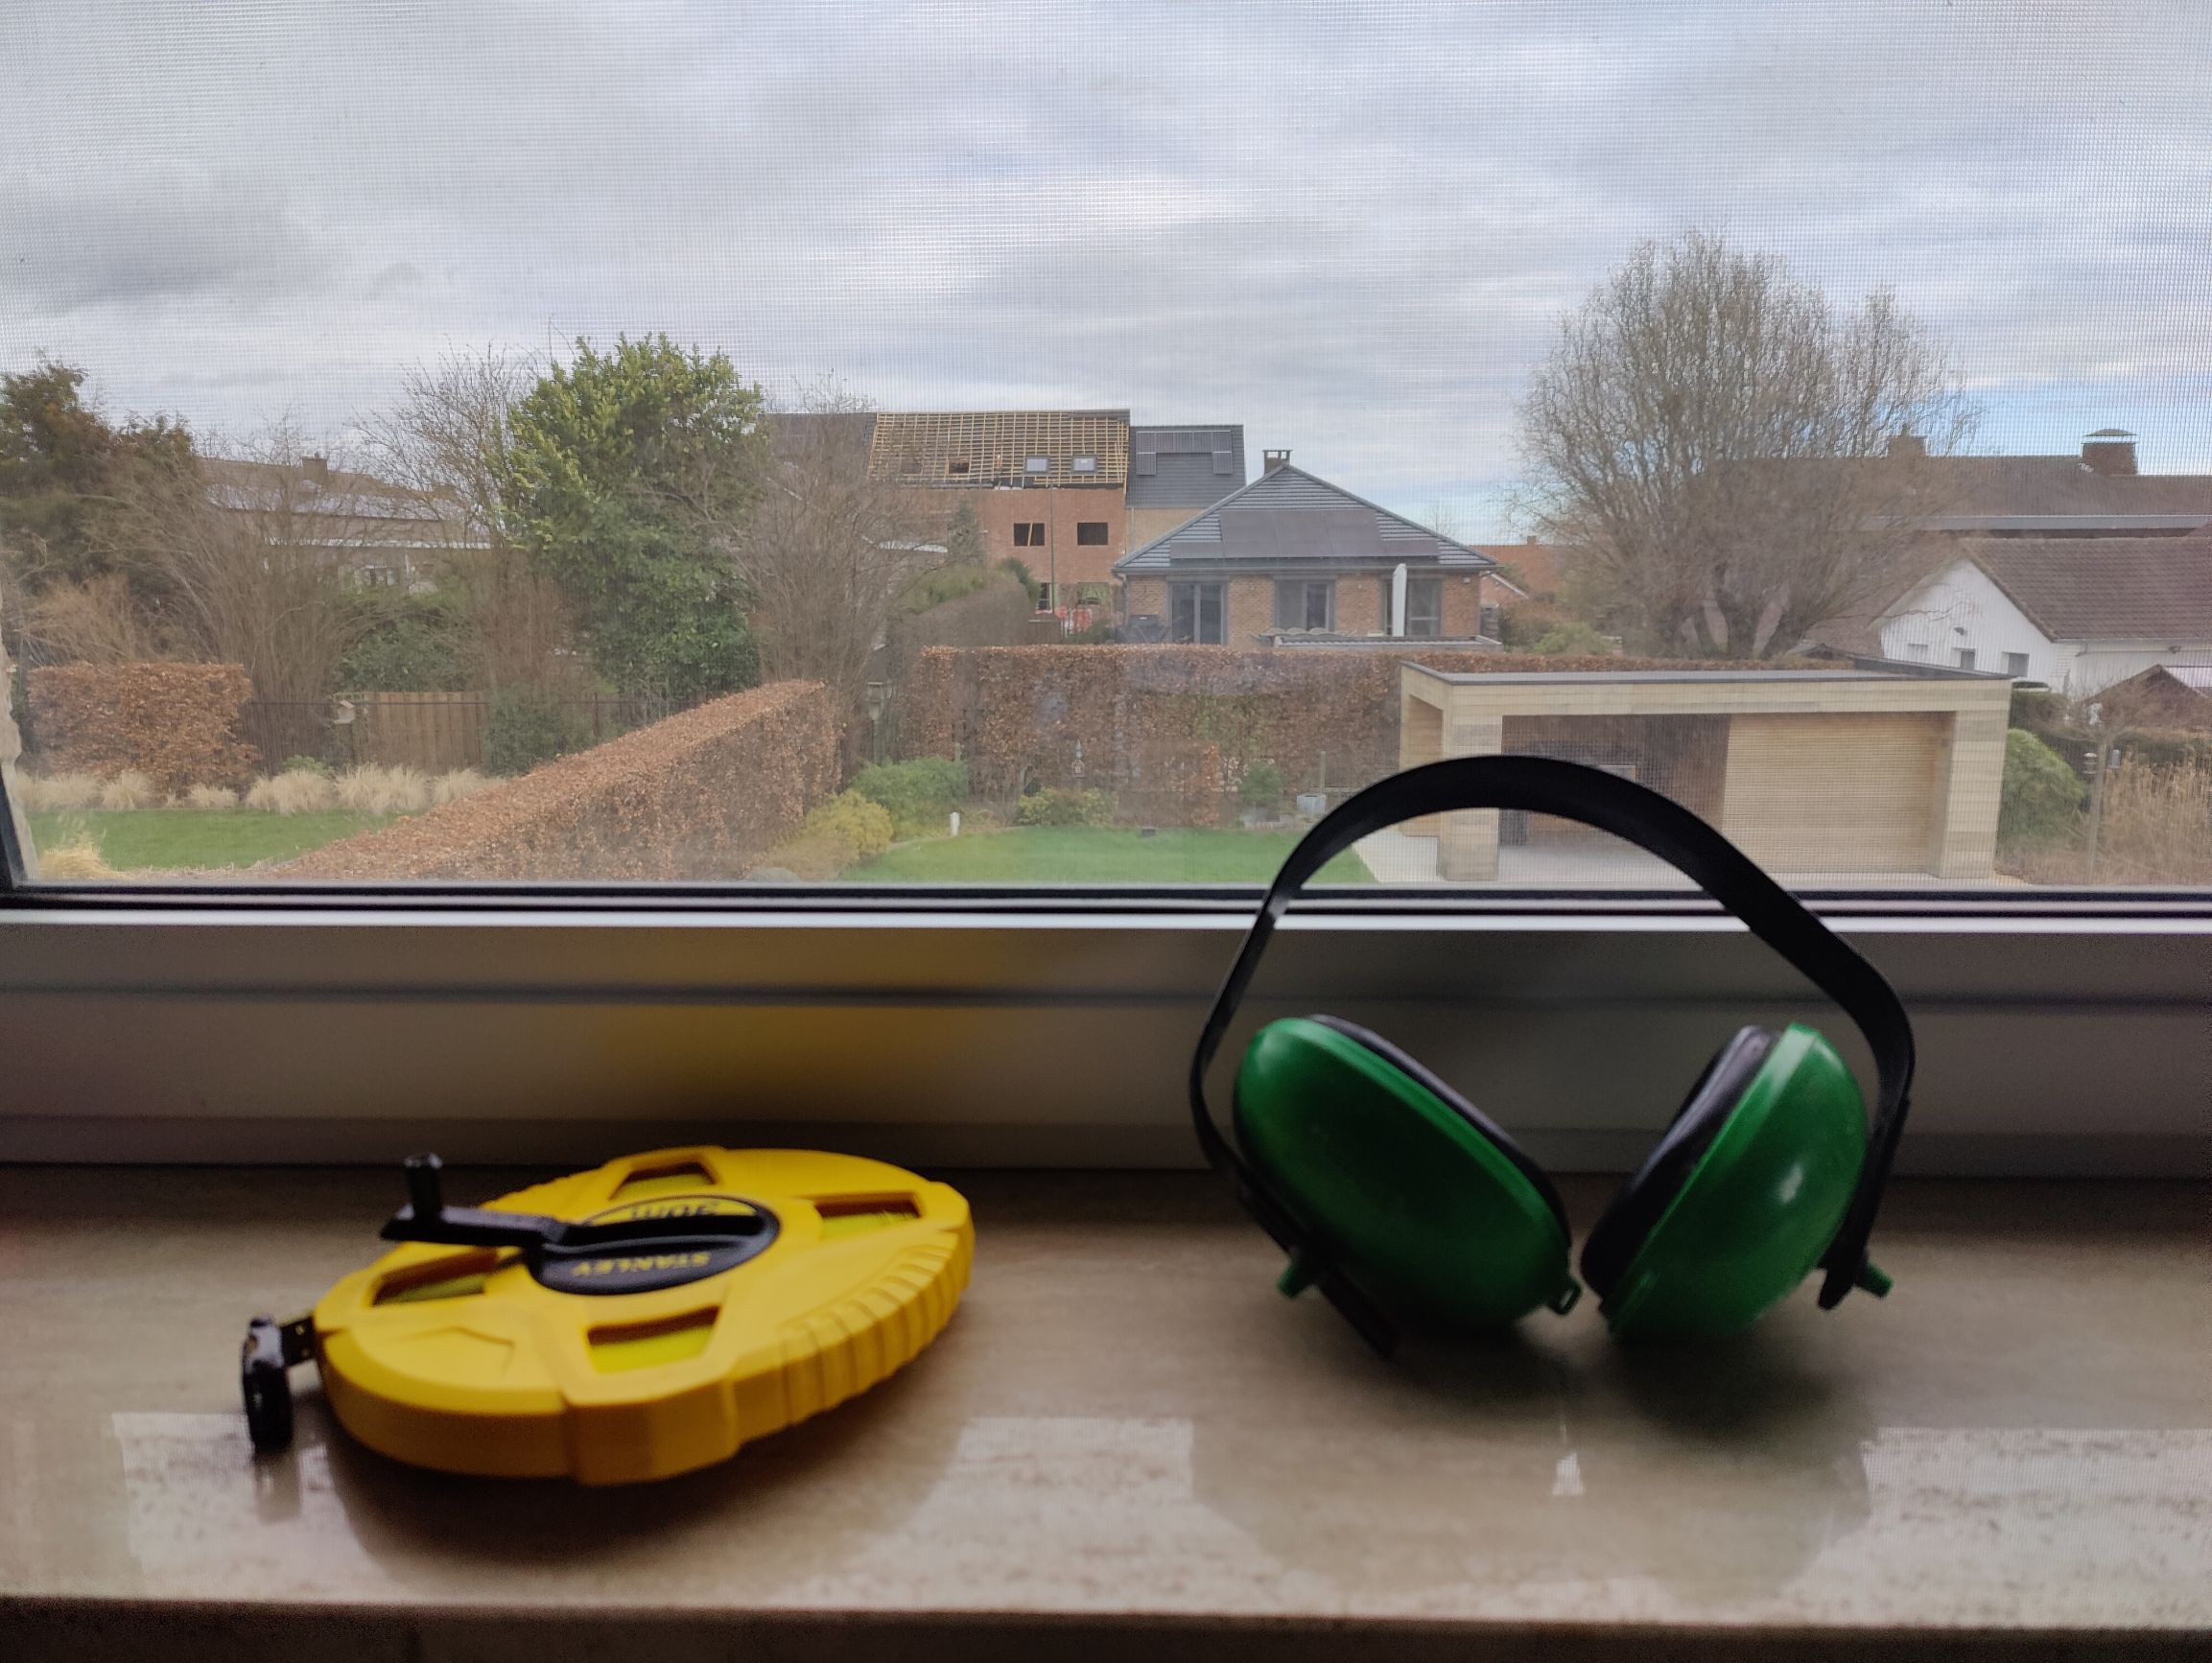headphones: (1183, 762, 1917, 1357)
tapemeasure: (232, 1134, 977, 1501)
